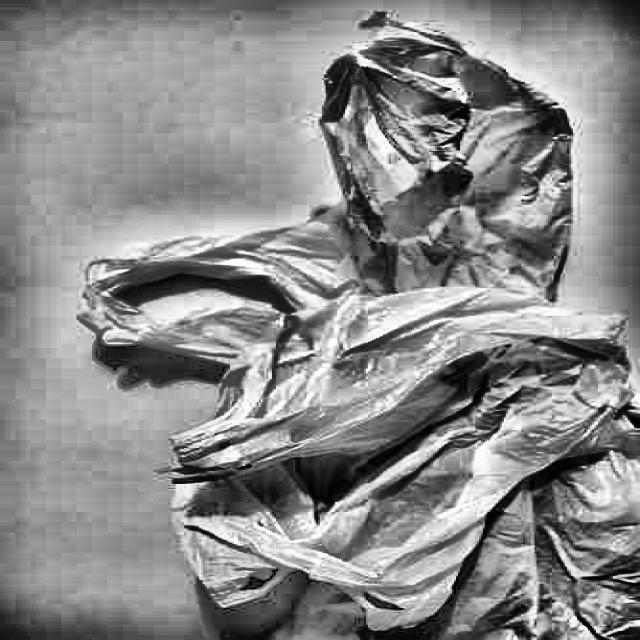Plastic: (61, 4, 640, 393), (142, 288, 640, 640)
